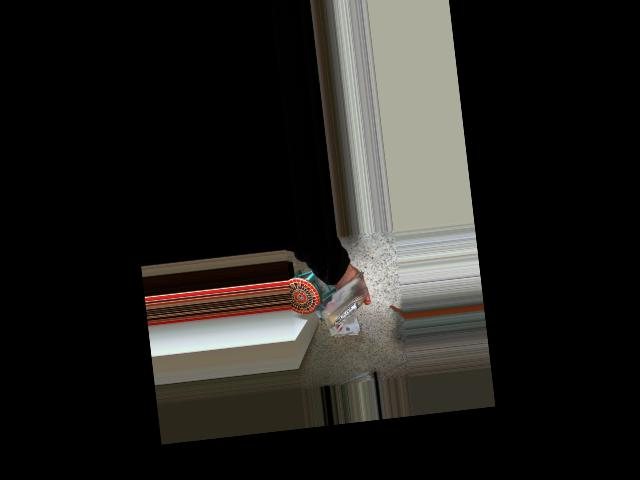cheese: (294, 266, 378, 346)
